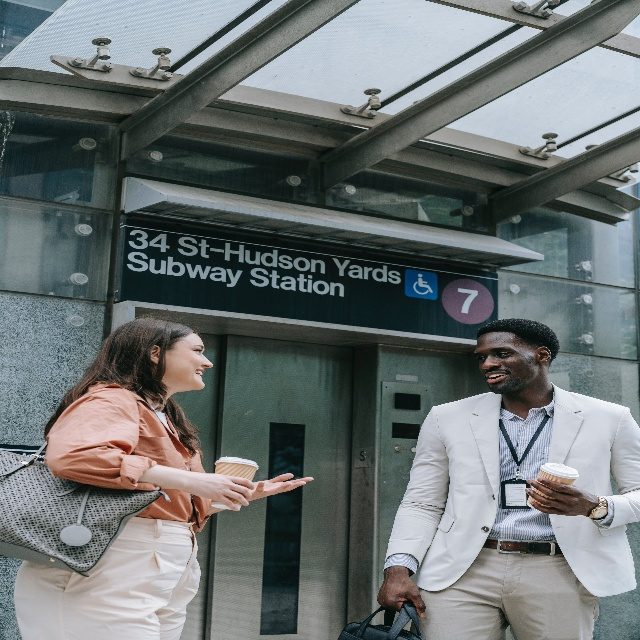Sin_guantes: (524, 473, 592, 518), (376, 571, 426, 619), (202, 470, 254, 514), (248, 473, 315, 499)
